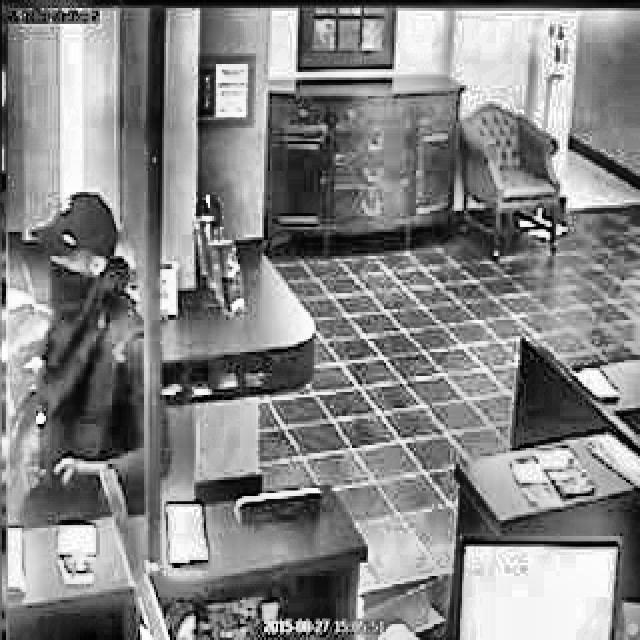robbery: (20, 186, 145, 526)
